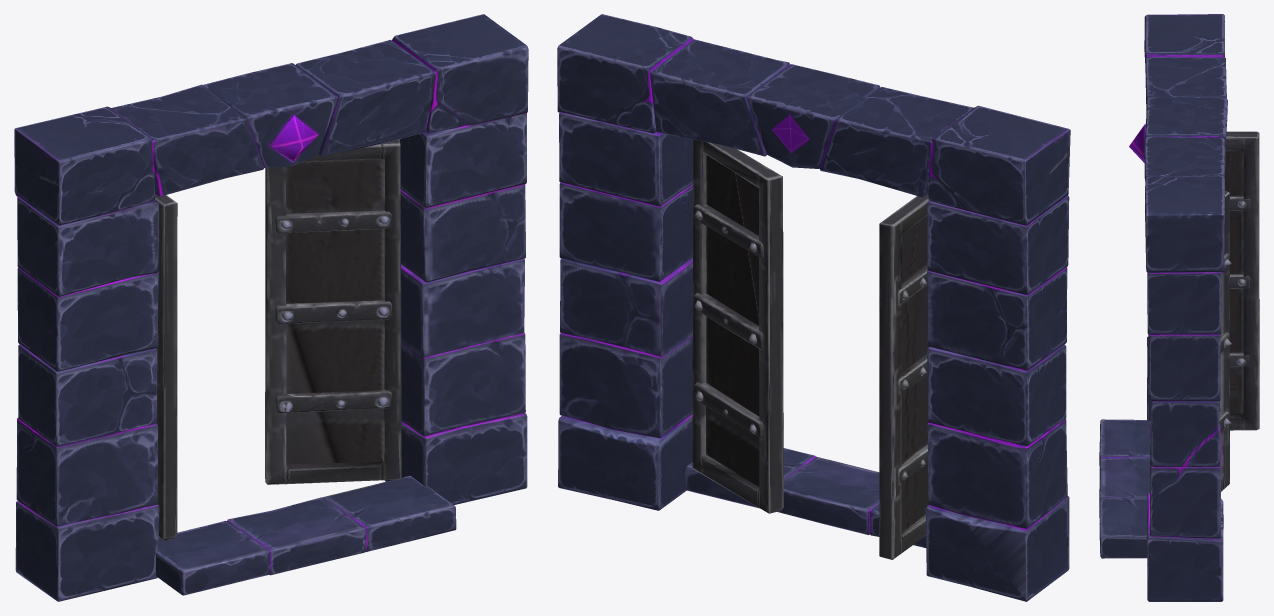
The model's file is door_square_open.glb.
The picture shows the model from 3 angles, left to right: view 1: azimuth 30°, elevation 25°; view 2: azimuth 150°, elevation 25°; view 3: azimuth 270°, elevation 25°; orthographic projection. The views are drawn at different scales.
Bounding box in the file's own units: 1 × 0.9043 × 0.3389.
Materials: 1 (1 with a texture image).
